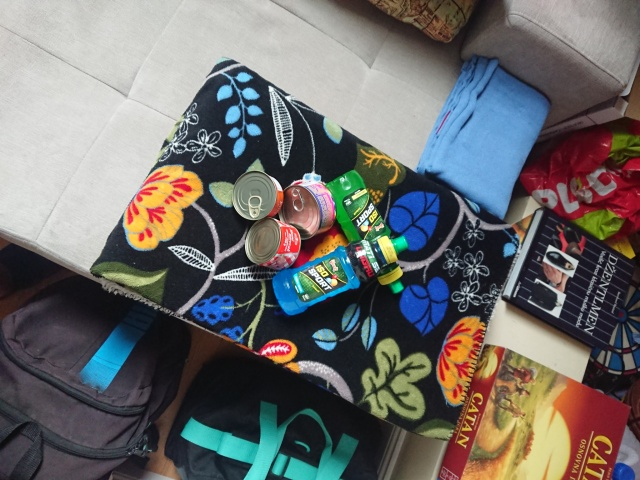Gavrilovic Pork Liver Pate 100g: (230, 169, 285, 222)
Giana Tuna Salad Mexico 185g: (276, 177, 338, 243)
Podravka Luncheon Meat 150g: (242, 214, 304, 274)
Vindi Iso Sport Forest Strawberries 500mL: (270, 233, 410, 319)
Vindi Iso Sport Lemon-Grapefruit 500mL: (319, 167, 407, 296)
